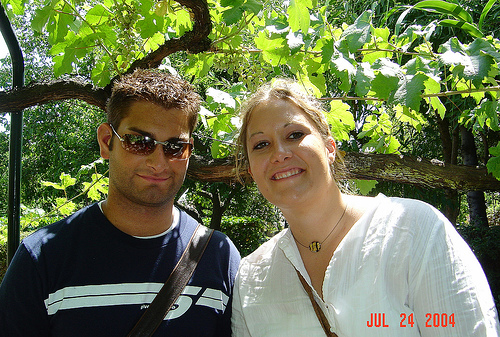without_mask: (97, 75, 209, 210), (239, 93, 349, 211)
